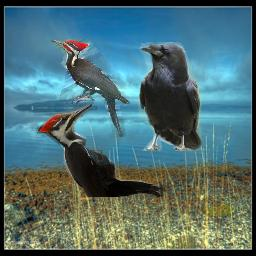Crow: (138, 42, 202, 151)
Woodpecker: (31, 104, 167, 197), (50, 39, 130, 137)
